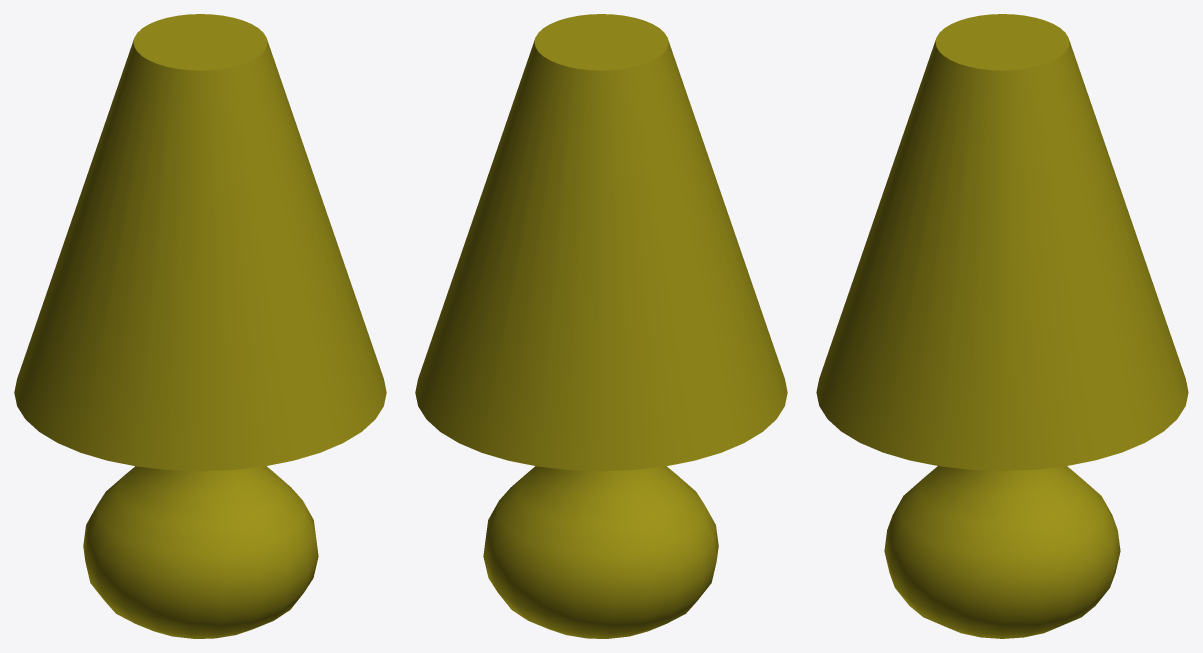
File: TableLamp.FBX
The picture shows the model from 3 angles, left to right: view 1: azimuth 30°, elevation 25°; view 2: azimuth 150°, elevation 25°; view 3: azimuth 270°, elevation 25°; orthographic projection.
Visible parts, largest first — view 1: TableLamp; view 2: TableLamp; view 3: TableLamp.
Boxes of the visible parts, box(x1,y1,x2,y2) form: TableLamp: box(14, 14, 386, 638); TableLamp: box(415, 14, 787, 638); TableLamp: box(816, 14, 1188, 638).
Size of the model in its own units: 58 by 99.88 by 57.99.
